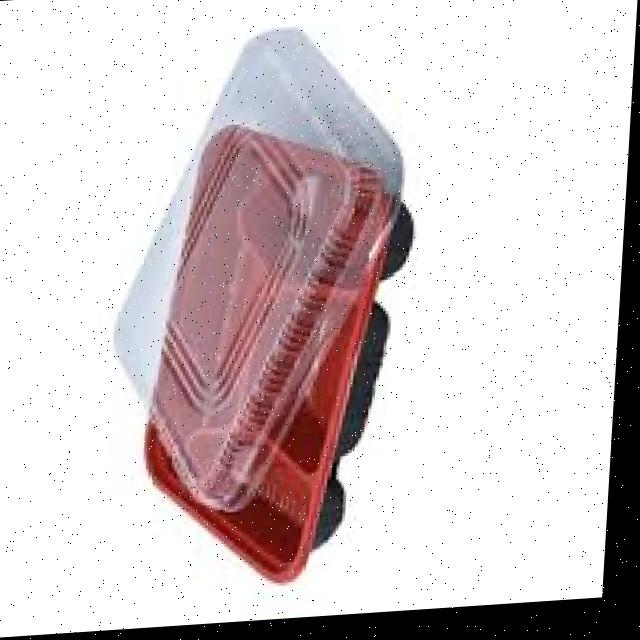disposable: (127, 106, 432, 594)
